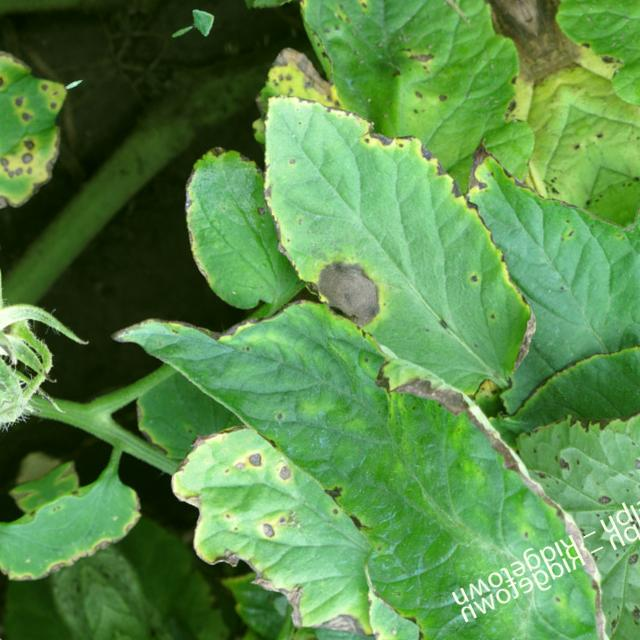Tomato Early blight leaf: (97, 195, 594, 640), (218, 50, 560, 453), (260, 0, 551, 220)
